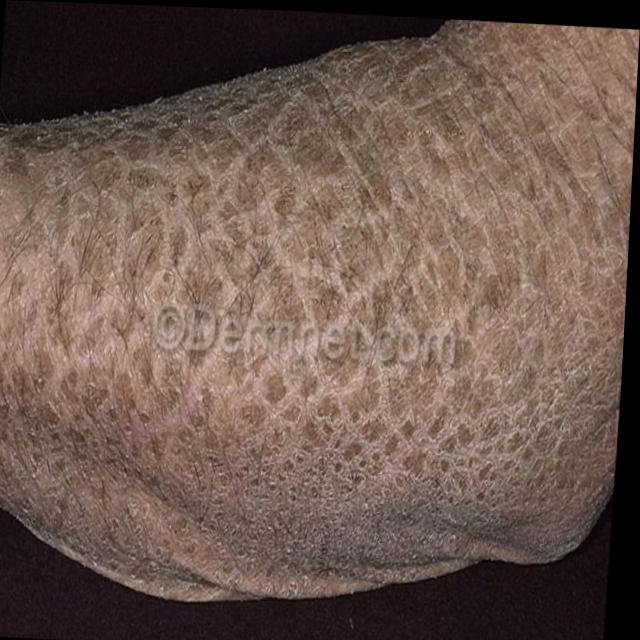liquenificacion 1: (0, 19, 640, 603)
liquenificacion 2: (0, 19, 640, 603)
liquenificacion 3: (0, 19, 640, 603)
